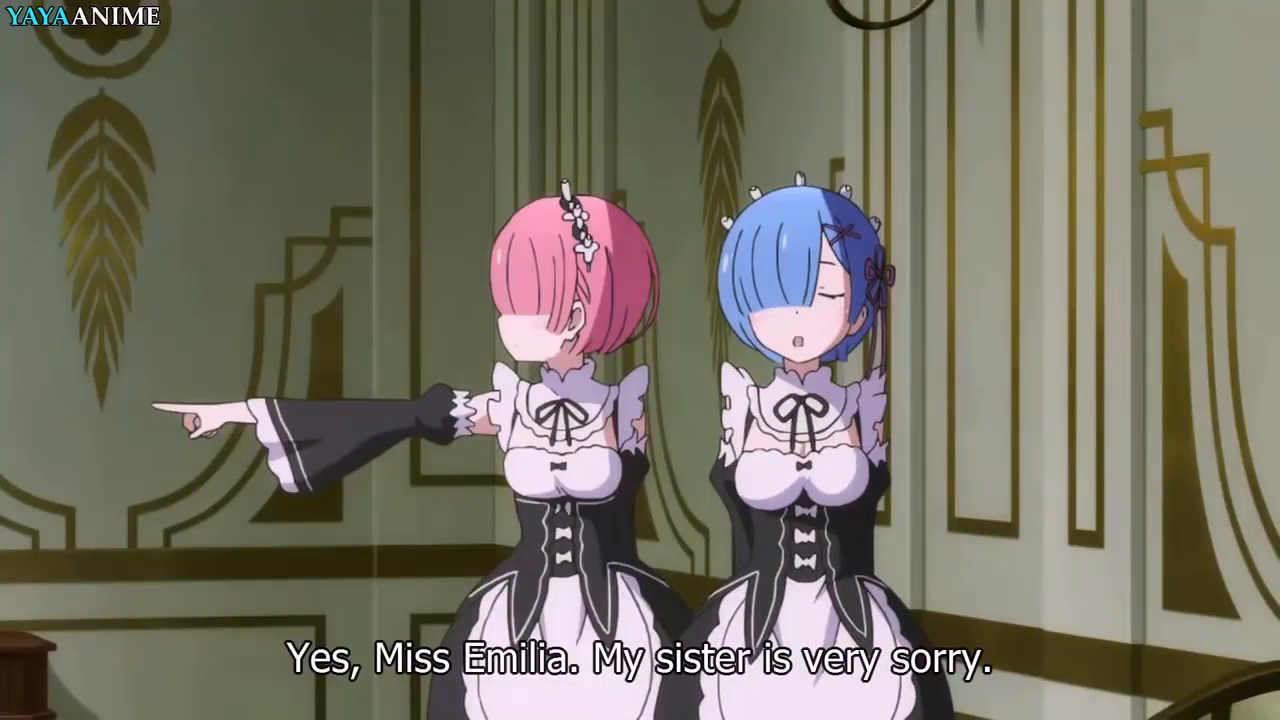REM: (716, 173, 899, 369)
